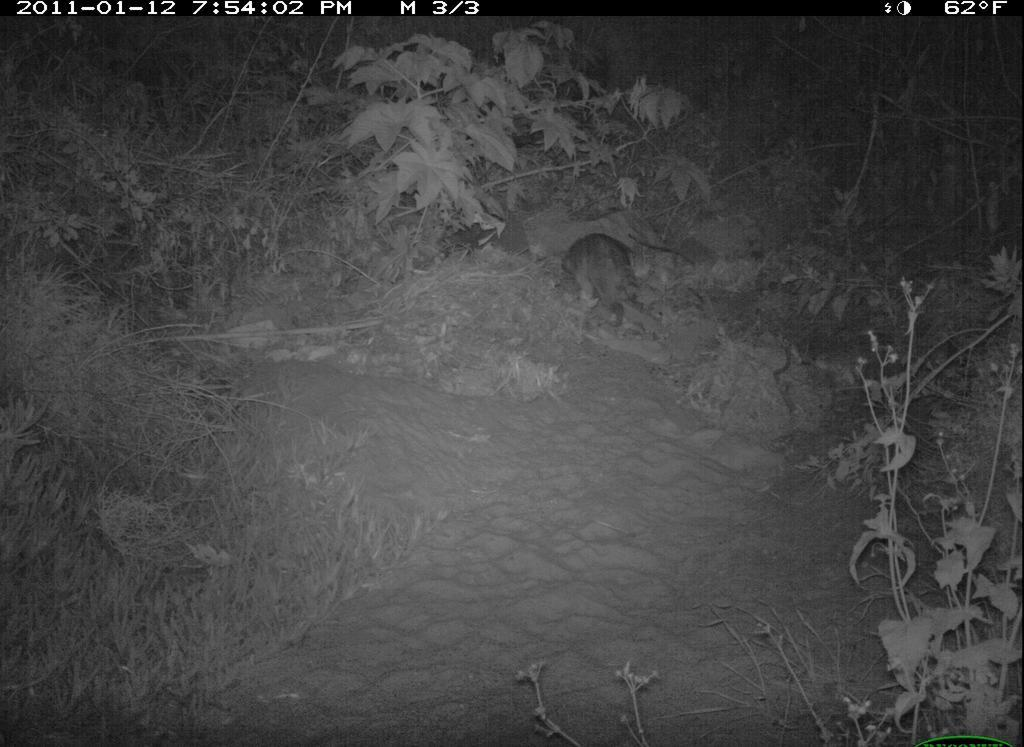raccoon: (557, 229, 641, 334)
